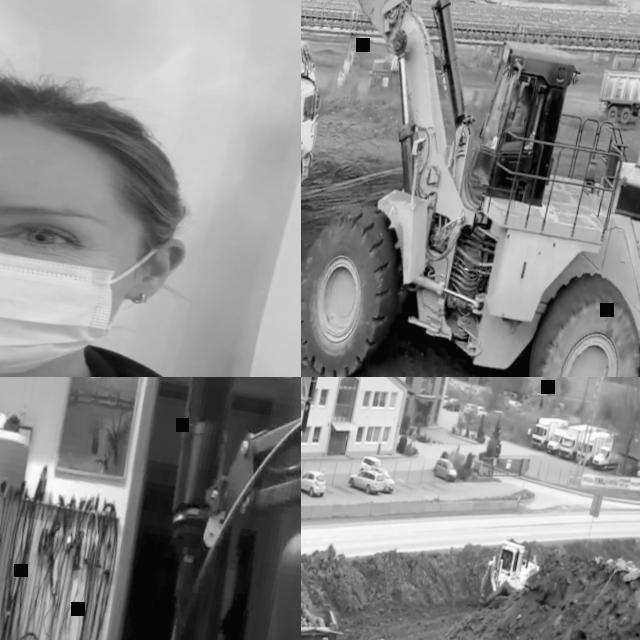machinery: (301, 0, 640, 377), (366, 42, 456, 110), (476, 533, 546, 620), (591, 44, 640, 143), (508, 390, 525, 412)
mask: (0, 177, 162, 377)
no_helmet: (0, 46, 191, 193), (524, 83, 532, 93)
no_vest: (510, 102, 530, 136)
person: (0, 16, 301, 377), (506, 81, 534, 138)
vehicle: (558, 419, 599, 464), (575, 426, 616, 469), (530, 414, 570, 454), (348, 467, 388, 497), (592, 443, 626, 474), (301, 467, 331, 499), (367, 465, 398, 494), (434, 458, 461, 482), (548, 426, 568, 455), (359, 454, 385, 476), (446, 398, 465, 413), (473, 404, 490, 420), (462, 402, 478, 417), (443, 396, 450, 408)
